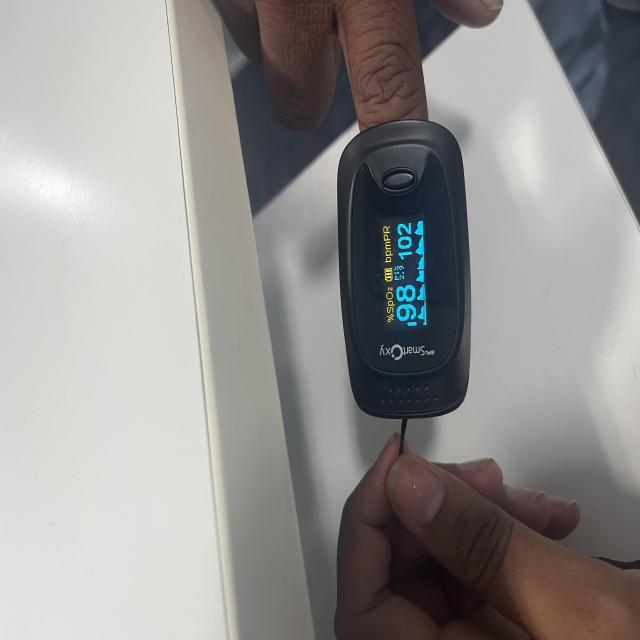spo2: (337, 121, 471, 425)
